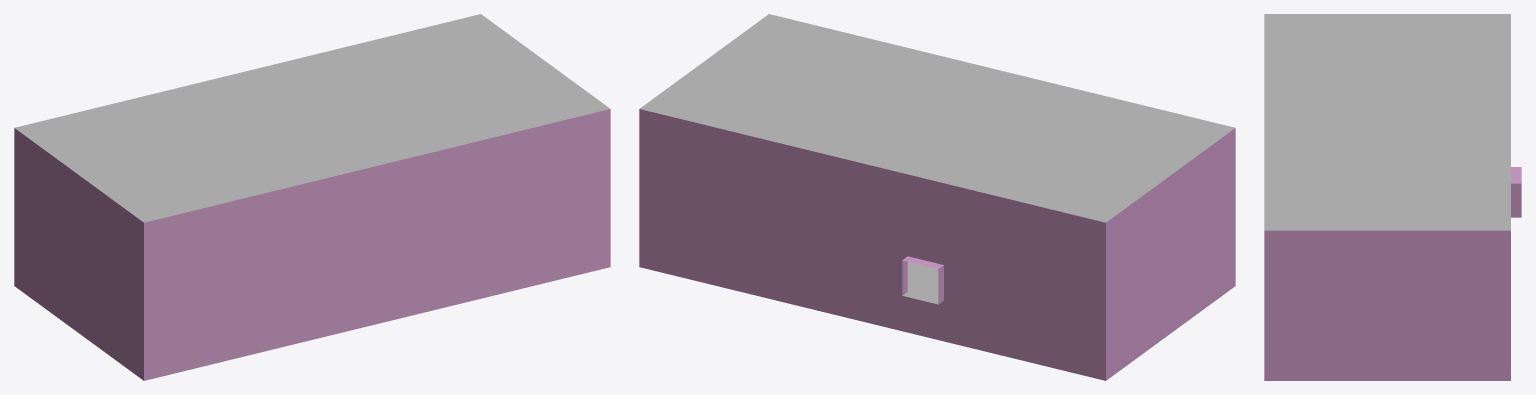
Rendered from ROOM_2.fbx.
3 renders of one model, left to right at view 1: azimuth 30°, elevation 25°; view 2: azimuth 150°, elevation 25°; view 3: azimuth 270°, elevation 25°, orthographic. The views are drawn at different scales.
Parts seen in each view (by area): view 1: polySurface5; view 2: polySurface5; view 3: polySurface5.
Boxes of the visible parts, left/top/right/bottom form: polySurface5: left=14, top=14, right=610, bottom=380; polySurface5: left=639, top=14, right=1235, bottom=380; polySurface5: left=1264, top=14, right=1521, bottom=380.
Bounding box in the file's own units: 56.76 × 18.39 × 28.49.
